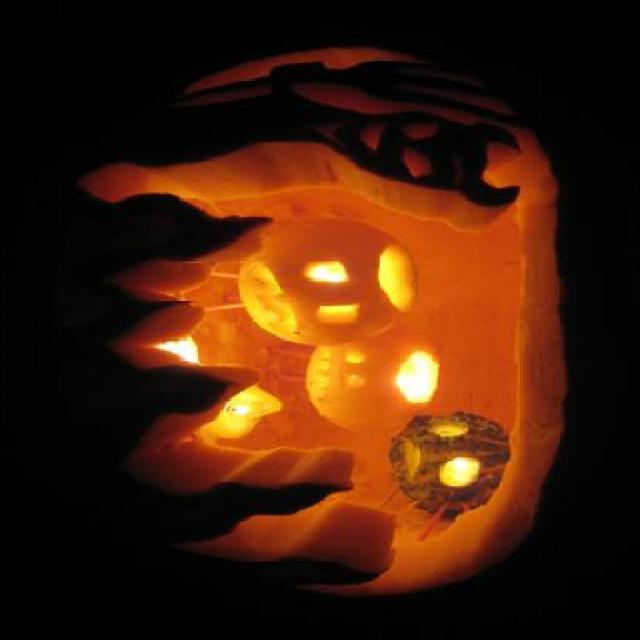Pumpkin: (1, 37, 572, 612)
